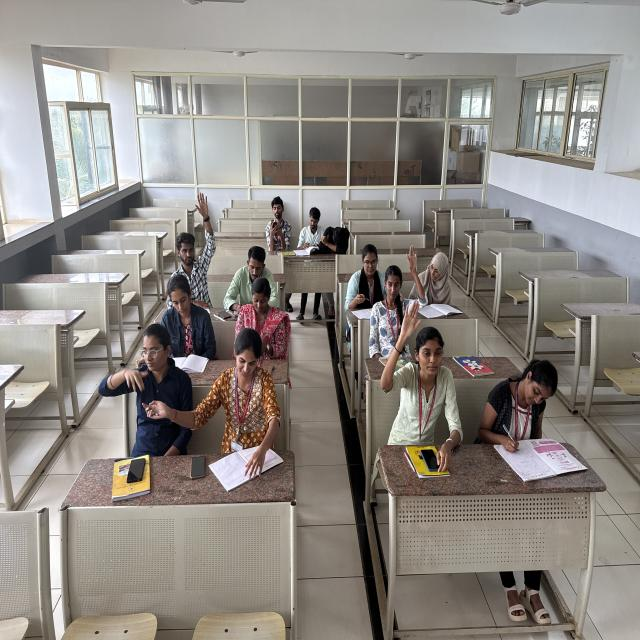Hand Rising: (170, 189, 224, 304)
Reading: (212, 331, 282, 480), (146, 273, 220, 370)
Sleeping: (316, 223, 356, 260)
Using Phone: (379, 298, 459, 440), (228, 277, 296, 360), (380, 238, 424, 343), (261, 190, 298, 257)
Writing: (480, 350, 564, 463), (406, 250, 466, 316), (299, 204, 323, 258)
